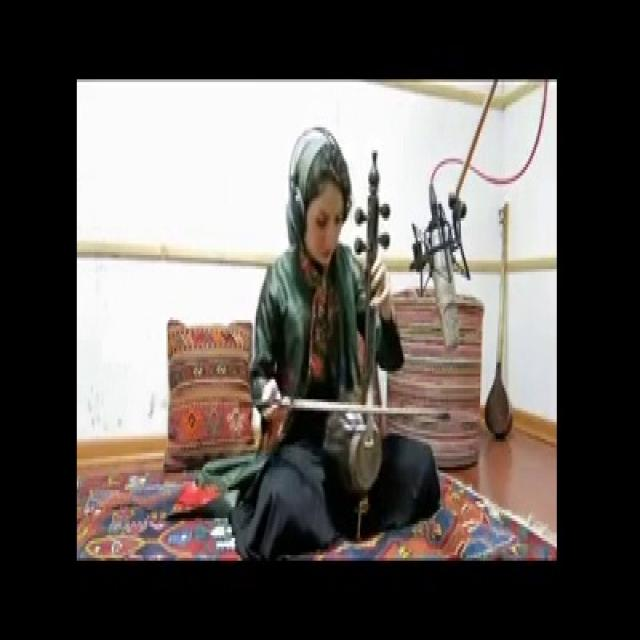Kamanche: (315, 148, 395, 510)
